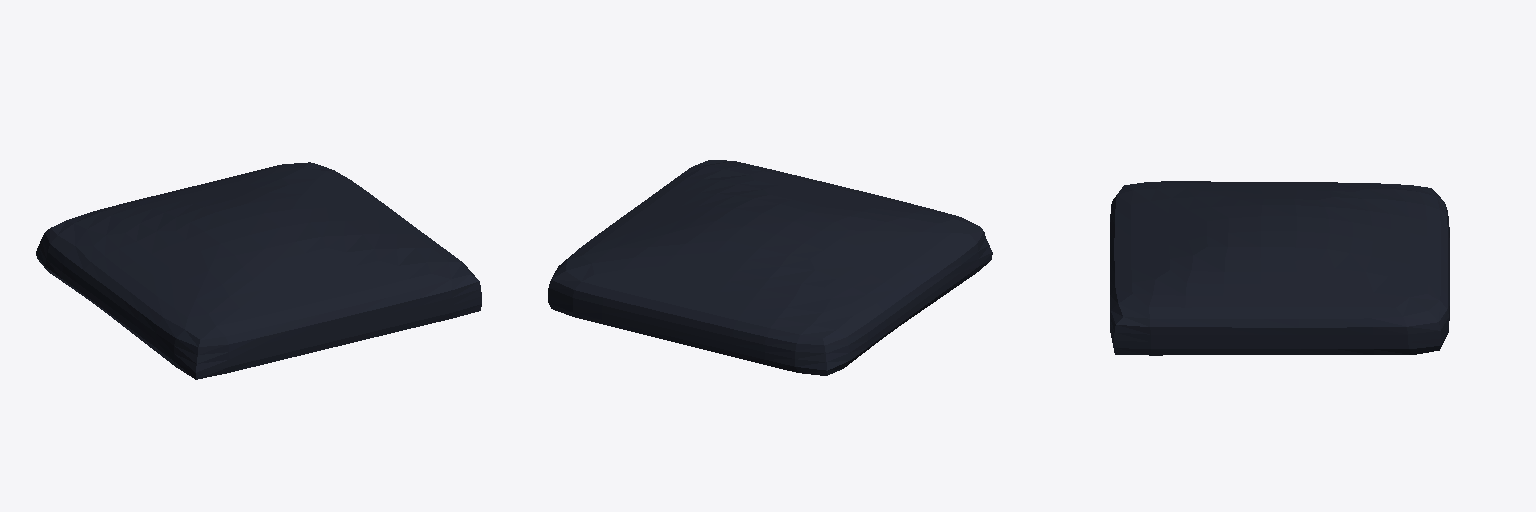
The model's file is 2pplv3.obj.
3 views of the same model, side by side, from view 1: azimuth 30°, elevation 25°; view 2: azimuth 150°, elevation 25°; view 3: azimuth 270°, elevation 25° (orthographic).
Visible parts, largest first — view 1: Cube.016_Cube.008; view 2: Cube.016_Cube.008; view 3: Cube.016_Cube.008.
Part boxes in pixels (x1,y1,x2,y2): Cube.016_Cube.008: (36, 162, 481, 379); Cube.016_Cube.008: (548, 160, 992, 375); Cube.016_Cube.008: (1110, 181, 1449, 355).
Bounding box in the file's own units: 1.97 × 0.4132 × 1.97.